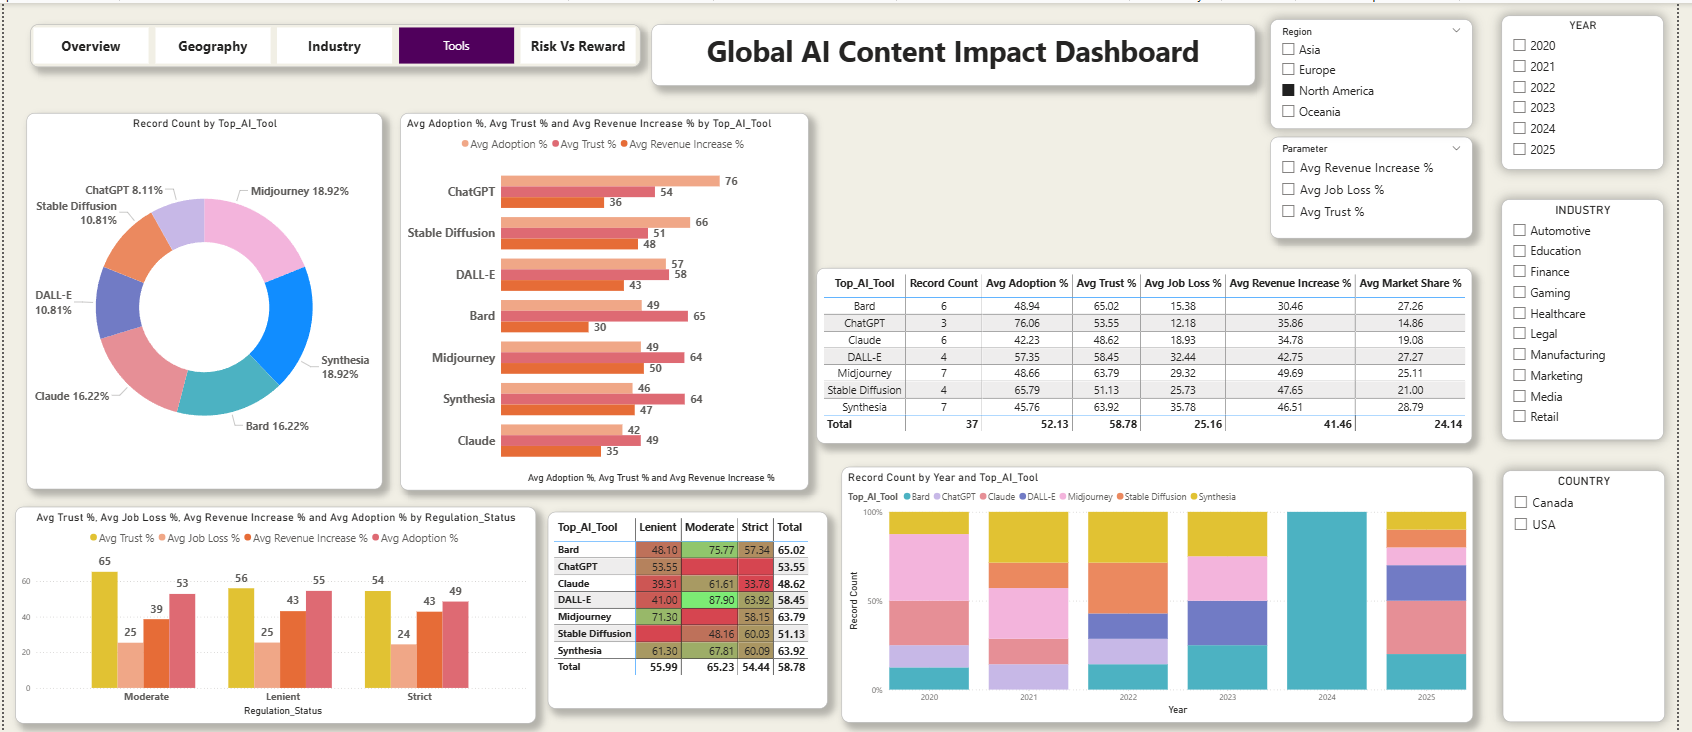

The dashboard page shown, as its layout file describes it:
{"tool":"powerbi","page":{"name":"Tools and regulation","canvas":[2500,1100],"ordinal":3},"visuals":[{"type":"slicer","title":"YEAR","fields":{"Values":["AI_Content_Impact_Cleaned.Year"]},"box":[2219.7,24.1,242.6,230.6],"z":0},{"type":"donutChart","fields":{"Category":["AI_Content_Impact_Cleaned.Top_AI_Tool"],"Y":["Measures Table.Record Count"]},"box":[706,276,480,422],"z":0,"group":"g1"},{"type":"clusteredBarChart","fields":{"Category":["AI_Content_Impact_Cleaned.Top_AI_Tool"],"Y":["Measures Table.Avg Adoption %","Measures Table.Avg Trust %","Measures Table.Avg Revenue Increase %"]},"box":[24,140,644,558],"z":1000,"group":"g1"},{"type":"slicer","title":"COUNTRY","fields":{"Values":["AI_Content_Impact_Cleaned.Country"]},"box":[2219.7,697.8,242.6,377],"z":1000},{"type":"slicer","title":"INDUSTRY","fields":{"Values":["AI_Content_Impact_Cleaned.Industry"]},"box":[2219,295.4,242.9,376.4],"z":2000},{"type":"clusteredColumnChart","fields":{"Category":["AI_Content_Impact_Cleaned.Regulation_Status"],"Y":["Measures Table.Avg Trust %","Measures Table.Avg Job Loss %","Measures Table.Avg Revenue Increase %","Measures Table.Avg Adoption %"]},"box":[24,740,770,334],"z":2000,"group":"g1"},{"type":"group","id":"g1","title":"Group 1","box":[24,24,2170,1050],"z":3000},{"type":"pivotTable","fields":{"Rows":["AI_Content_Impact_Cleaned.Top_AI_Tool"],"Columns":["AI_Content_Impact_Cleaned.Regulation_Status"],"Values":["Measures Table.Avg Trust %"]},"box":[812,794,418,280],"z":3000,"group":"g1"},{"type":"hundredPercentStackedColumnChart","fields":{"Category":["AI_Content_Impact_Cleaned.Year"],"Y":["Measures Table.Record Count"],"Series":["AI_Content_Impact_Cleaned.Top_AI_Tool"]},"box":[1250,692,944,382],"z":4000,"group":"g1"},{"type":"tableEx","fields":{"Values":["AI_Content_Impact_Cleaned.Top_AI_Tool","Measures Table.Record Count","Measures Table.Avg Adoption %","Measures Table.Avg Trust %","Measures Table.Avg Job Loss %","Measures Table.Avg Revenue Increase %","Measures Table.Avg Market Share %"]},"box":[1214,396,980,262],"z":5000,"group":"g1"},{"type":"slicer","fields":{"Values":["Parameter.Parameter"]},"box":[1892,200,302,152],"z":6000,"group":"g1"},{"type":"slicer","fields":{"Values":["AI_Content_Impact_Cleaned.Region"]},"box":[1892,24,302,164],"z":7000,"group":"g1"}]}

Visuals, with their boxes in screenshot pixels (x1, y1, x2, y2), scaled from the page's 2500x1100 canvas onto the 1692x732 screenshot:
"YEAR" slicer: box(1502, 16, 1666, 169)
donutChart - AI_Content_Impact_Cleaned.Top_AI_Tool x Measures Table.Record Count: box(478, 184, 803, 464)
clusteredBarChart - AI_Content_Impact_Cleaned.Top_AI_Tool x Measures Table.Avg Adoption %: box(16, 93, 452, 464)
"COUNTRY" slicer: box(1502, 464, 1666, 715)
"INDUSTRY" slicer: box(1502, 197, 1666, 447)
clusteredColumnChart - AI_Content_Impact_Cleaned.Regulation_Status x Measures Table.Avg Trust %: box(16, 492, 537, 715)
"Group 1" group: box(16, 16, 1485, 715)
pivotTable - AI_Content_Impact_Cleaned.Top_AI_Tool x AI_Content_Impact_Cleaned.Regulation_Status: box(550, 528, 832, 715)
hundredPercentStackedColumnChart - AI_Content_Impact_Cleaned.Year x Measures Table.Record Count: box(846, 460, 1485, 715)
tableEx - AI_Content_Impact_Cleaned.Top_AI_Tool x Measures Table.Record Count: box(822, 264, 1485, 438)
slicer - Parameter.Parameter: box(1281, 133, 1485, 234)
slicer - AI_Content_Impact_Cleaned.Region: box(1281, 16, 1485, 125)
